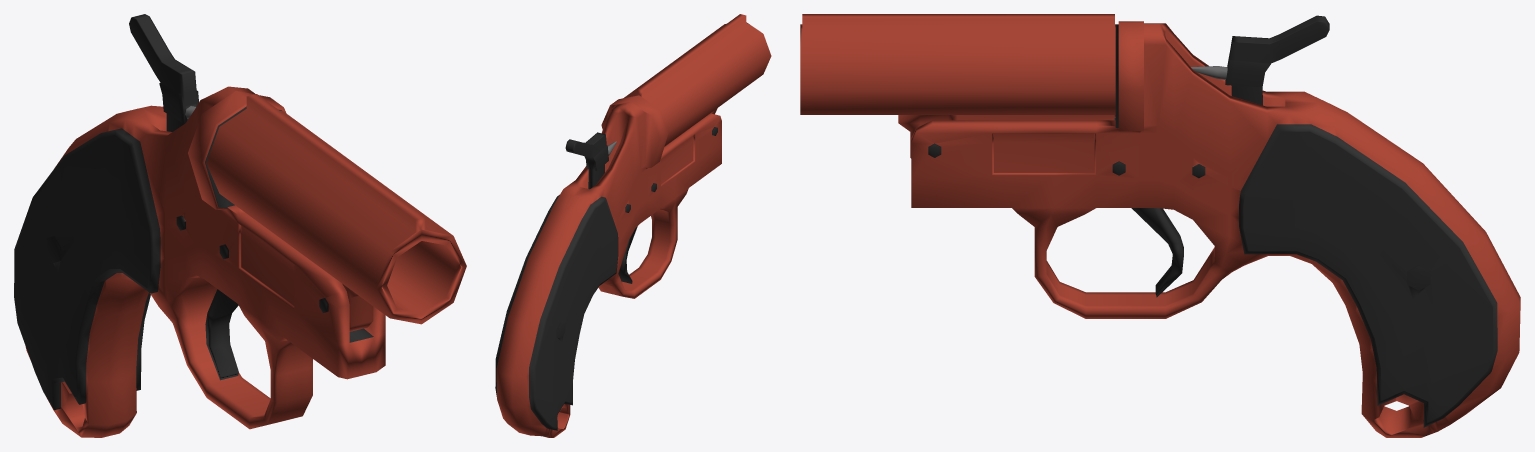
Rendered from Gun12.fbx.
The picture shows the model from 3 angles, left to right: view 1: azimuth 30°, elevation 25°; view 2: azimuth 150°, elevation 25°; view 3: azimuth 270°, elevation 25°; orthographic projection. The views are drawn at different scales.
Visible parts, largest first — view 1: Gun04, Gun02, Gun01, Gun05; view 2: Gun04, Gun02, Gun01, Gun05; view 3: Gun04, Gun02, Gun01, Gun05.
Part boxes in pixels (x1=…): Gun04: x1=14, y1=86, x2=385, y2=437; Gun02: x1=206, y1=94, x2=466, y2=331; Gun01: x1=129, y1=14, x2=198, y2=131; Gun05: x1=205, y1=289, x2=238, y2=380; Gun04: x1=495, y1=95, x2=721, y2=437; Gun02: x1=623, y1=14, x2=771, y2=146; Gun01: x1=565, y1=132, x2=616, y2=189; Gun05: x1=618, y1=226, x2=637, y2=283; Gun04: x1=911, y1=21, x2=1520, y2=437; Gun02: x1=800, y1=14, x2=1115, y2=158; Gun01: x1=1191, y1=15, x2=1329, y2=105; Gun05: x1=1131, y1=208, x2=1183, y2=297.
Bounding box in the file's own units: 11.3 × 49.75 × 79.04.
